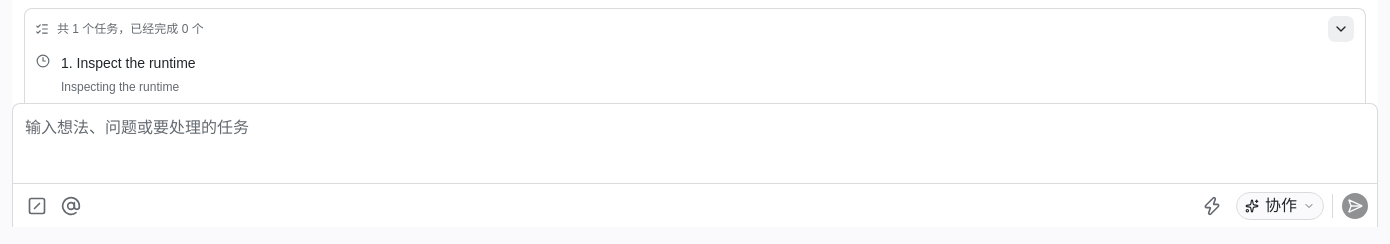
AgentComposer › 支持展开和收起待办计划
Step 1. Click the button named "收起待办计划" → coordinates (1341, 29), box [1327, 15, 1355, 43]
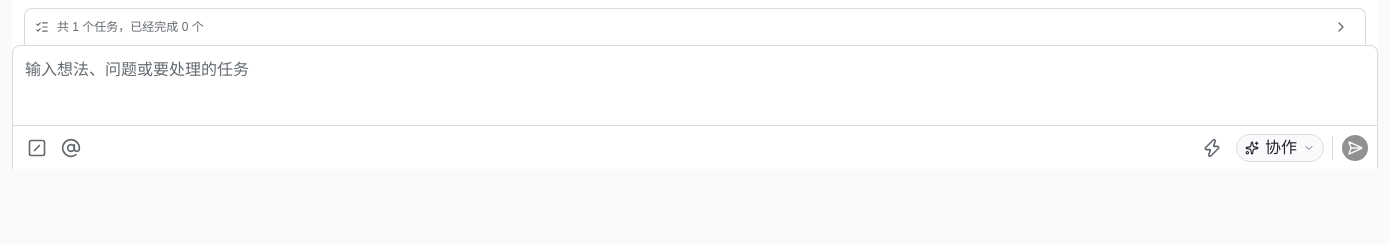
Expected: the text "1. Inspect the runtime" is gone
Expected: the button named "展开待办计划" is shown, [1327, 13, 1355, 41]
